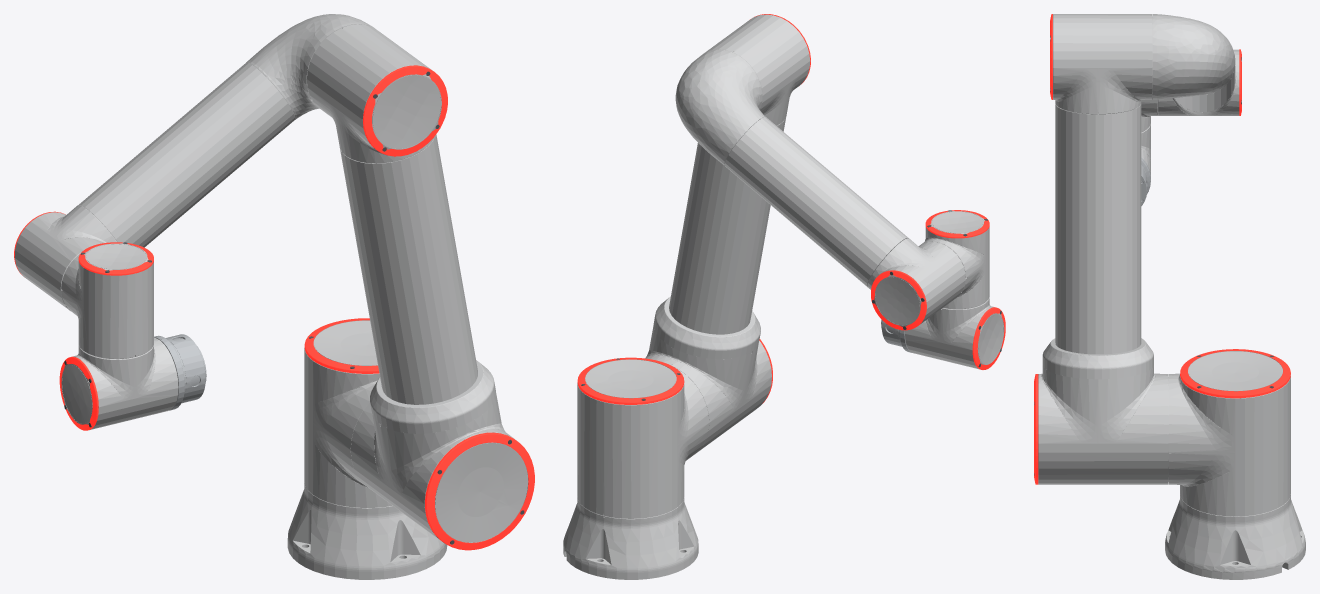
3 views of the same model, side by side, from view 1: azimuth 30°, elevation 25°; view 2: azimuth 150°, elevation 25°; view 3: azimuth 270°, elevation 25° (orthographic). The views are drawn at different scales.
Parts seen in each view (by area): view 1: Link_2_UpperArm_fr5_white_gloss, Link_3_Forearm_fr5_white_gloss, Link_1_Shoulder_fr5_white_gloss, Link_0_Base_fr5_white_gloss, Link_4_Wrist1_fr5_white_gloss, Link_5_Wrist2_fr5_white_gloss, Link_2_UpperArm_fr5_led_ring, Link_6_Flange_fr5_flange_alu, Link_1_Shoulder_fr5_led_ring, Link_5_Wrist2_fr5_led_ring, Link_4_Wrist1_fr5_led_ring; view 2: Link_2_UpperArm_fr5_white_gloss, Link_3_Forearm_fr5_white_gloss, Link_1_Shoulder_fr5_white_gloss, Link_0_Base_fr5_white_gloss, Link_5_Wrist2_fr5_white_gloss, Link_4_Wrist1_fr5_white_gloss, Link_1_Shoulder_fr5_led_ring, Link_3_Forearm_fr5_led_ring, Link_5_Wrist2_fr5_led_ring, Link_4_Wrist1_fr5_led_ring; view 3: Link_2_UpperArm_fr5_white_gloss, Link_1_Shoulder_fr5_white_gloss, Link_0_Base_fr5_white_gloss, Link_3_Forearm_fr5_white_gloss, Link_1_Shoulder_fr5_led_ring, Link_2_UpperArm_fr5_led_ring, Link_4_Wrist1_fr5_white_gloss, Link_5_Wrist2_fr5_white_gloss.
Boxes of the visible parts, left/top/right/bottom form: Link_2_UpperArm_fr5_white_gloss: left=307, top=24, right=528, bottom=543; Link_3_Forearm_fr5_white_gloss: left=14, top=14, right=374, bottom=310; Link_1_Shoulder_fr5_white_gloss: left=304, top=320, right=392, bottom=507; Link_0_Base_fr5_white_gloss: left=287, top=482, right=447, bottom=579; Link_4_Wrist1_fr5_white_gloss: left=61, top=243, right=153, bottom=359; Link_5_Wrist2_fr5_white_gloss: left=61, top=337, right=178, bottom=430; Link_2_UpperArm_fr5_led_ring: left=363, top=65, right=534, bottom=550; Link_6_Flange_fr5_flange_alu: left=154, top=334, right=206, bottom=410; Link_1_Shoulder_fr5_led_ring: left=304, top=318, right=379, bottom=373; Link_5_Wrist2_fr5_led_ring: left=59, top=356, right=98, bottom=430; Link_4_Wrist1_fr5_led_ring: left=78, top=242, right=153, bottom=275; Link_2_UpperArm_fr5_white_gloss: left=645, top=14, right=810, bottom=453; Link_3_Forearm_fr5_white_gloss: left=675, top=49, right=965, bottom=326; Link_1_Shoulder_fr5_white_gloss: left=577, top=359, right=709, bottom=518; Link_0_Base_fr5_white_gloss: left=563, top=497, right=698, bottom=579; Link_5_Wrist2_fr5_white_gloss: left=905, top=297, right=1004, bottom=369; Link_4_Wrist1_fr5_white_gloss: left=921, top=211, right=989, bottom=309; Link_1_Shoulder_fr5_led_ring: left=577, top=357, right=684, bottom=404; Link_3_Forearm_fr5_led_ring: left=871, top=270, right=926, bottom=330; Link_5_Wrist2_fr5_led_ring: left=972, top=307, right=1005, bottom=369; Link_4_Wrist1_fr5_led_ring: left=925, top=210, right=989, bottom=238; Link_2_UpperArm_fr5_white_gloss: left=1038, top=14, right=1168, bottom=484; Link_1_Shoulder_fr5_white_gloss: left=1169, top=351, right=1290, bottom=516; Link_0_Base_fr5_white_gloss: left=1165, top=494, right=1305, bottom=579; Link_3_Forearm_fr5_white_gloss: left=1152, top=14, right=1241, bottom=115; Link_1_Shoulder_fr5_led_ring: left=1180, top=349, right=1290, bottom=398; Link_2_UpperArm_fr5_led_ring: left=1034, top=14, right=1052, bottom=484; Link_4_Wrist1_fr5_white_gloss: left=1141, top=98, right=1157, bottom=132; Link_5_Wrist2_fr5_white_gloss: left=1141, top=123, right=1150, bottom=176.
Bounding box in the file's own units: 0.5857 × 0.7501 × 0.3667.
